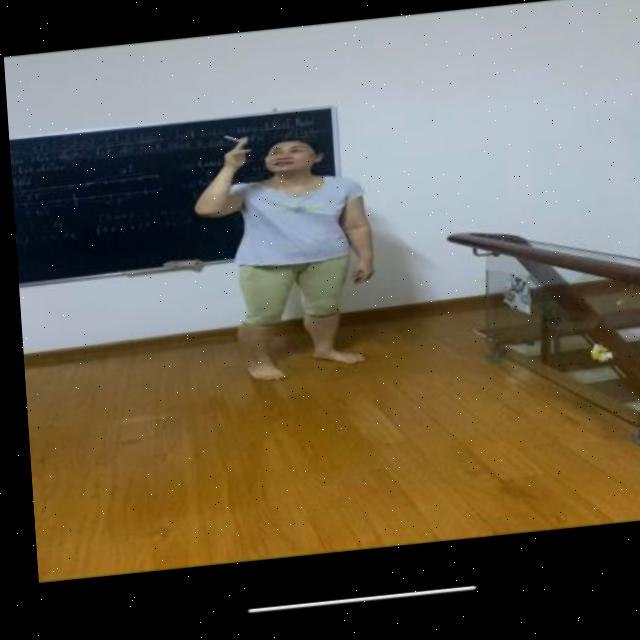cigarette: (220, 139, 241, 149)
